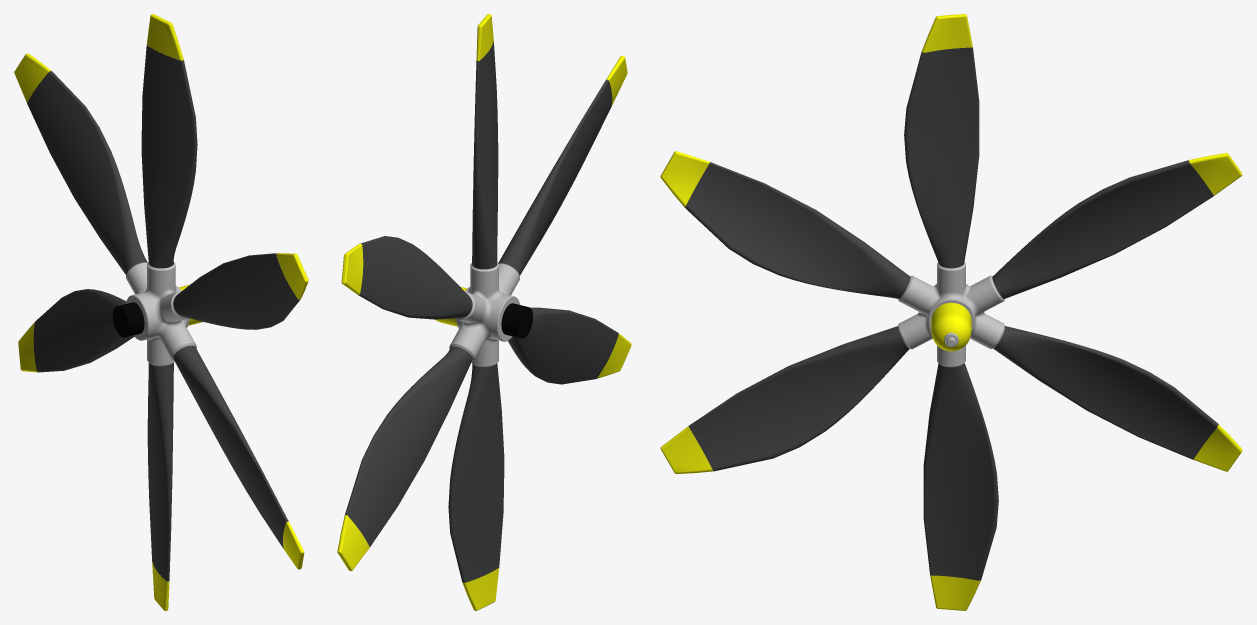
Rendered from Propeller_from_airboat.fbx.
The picture shows the model from 3 angles, left to right: view 1: azimuth 30°, elevation 25°; view 2: azimuth 150°, elevation 25°; view 3: azimuth 270°, elevation 25°; orthographic projection.
Parts seen in each view (by area): view 1: Propeller_from_airboat.SLDPRT; view 2: Propeller_from_airboat.SLDPRT; view 3: Propeller_from_airboat.SLDPRT.
Part boxes in pixels (<box>): Propeller_from_airboat.SLDPRT: <box>14,14,308,610</box>; Propeller_from_airboat.SLDPRT: <box>337,14,631,610</box>; Propeller_from_airboat.SLDPRT: <box>660,14,1242,610</box>.
Size of the model in its own units: 33 by 180 by 160.
